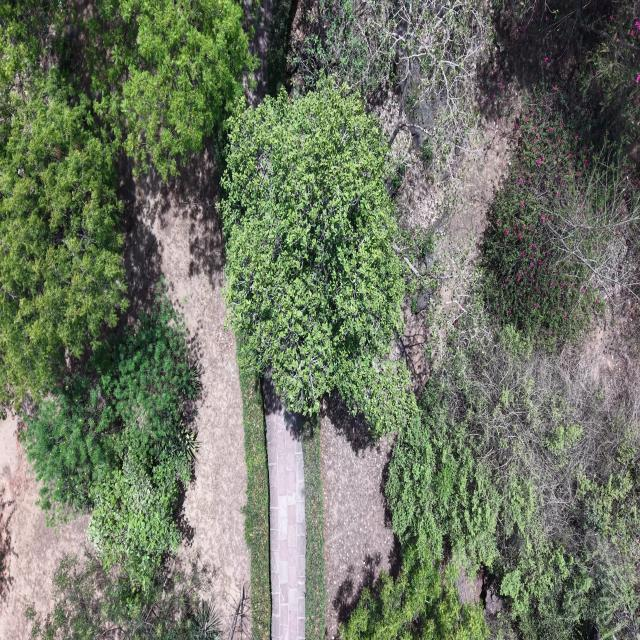DRY_AREA: (126, 149, 250, 638), (124, 153, 249, 636), (125, 153, 249, 635), (136, 151, 250, 637), (399, 118, 512, 318), (0, 415, 88, 639), (320, 398, 399, 638), (321, 397, 399, 638), (321, 398, 399, 638), (321, 407, 399, 638), (263, 378, 306, 639), (263, 377, 305, 639), (243, 0, 273, 107)
PATHWAYS: (269, 397, 308, 639)
VEGETATION_TREE: (0, 0, 639, 639), (341, 3, 639, 639), (0, 0, 254, 638), (0, 0, 254, 617), (0, 0, 254, 406), (386, 271, 639, 639), (386, 326, 639, 638), (223, 81, 419, 433), (222, 81, 414, 432), (291, 0, 638, 179), (483, 2, 639, 346), (22, 295, 199, 591), (0, 0, 125, 406), (0, 0, 255, 177), (0, 70, 126, 403), (483, 104, 639, 343), (53, 0, 255, 178), (293, 0, 489, 169), (89, 297, 200, 588), (114, 0, 254, 178), (494, 0, 639, 146), (27, 552, 221, 639), (23, 376, 116, 524), (88, 455, 188, 590), (340, 548, 488, 639), (0, 0, 66, 147), (292, 2, 390, 97), (239, 366, 271, 639), (301, 415, 325, 639), (395, 227, 440, 313), (265, 0, 296, 96)
